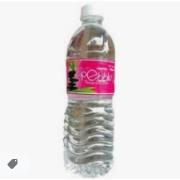bottle: (62, 3, 116, 180)
